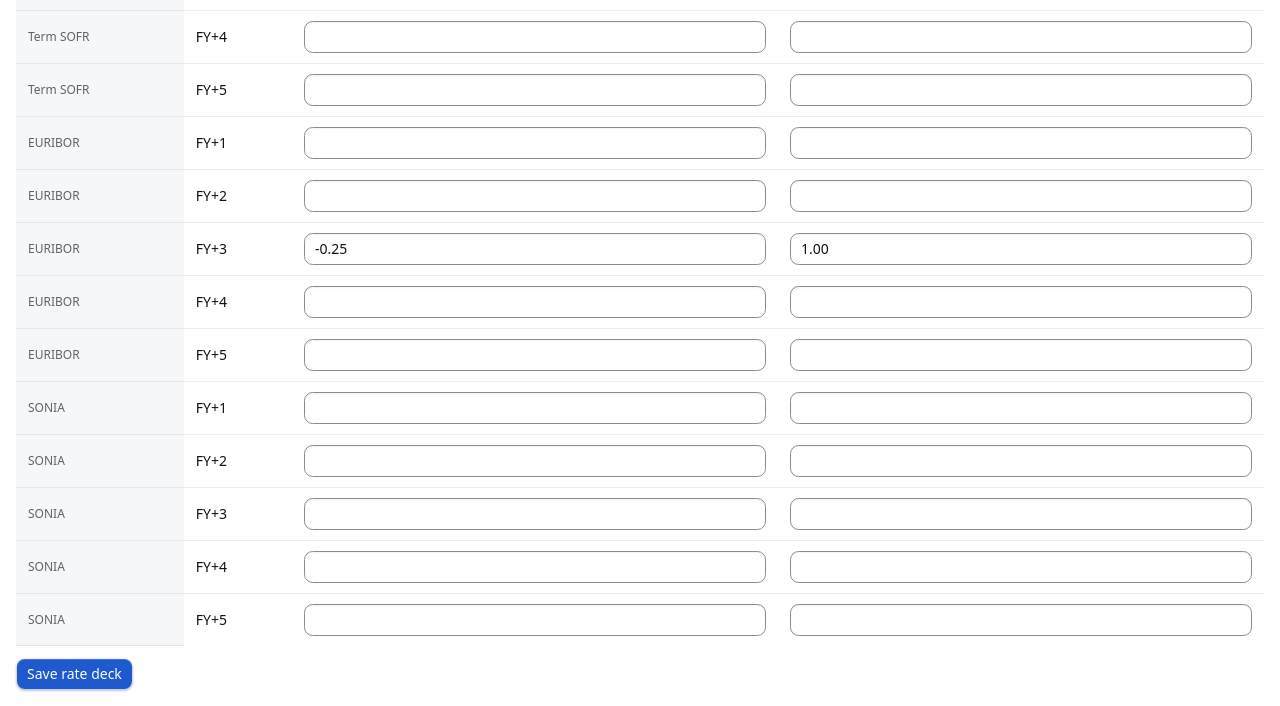
it: the rate deck card › shows the server refusal for a non-admin
The width and height of the screenshot is (1280, 706).
(page scrolled)
Click the button "Save rate deck". click: (74, 674)
box: top-left (16, 658), bottom-right (133, 690)
(page scrolled)
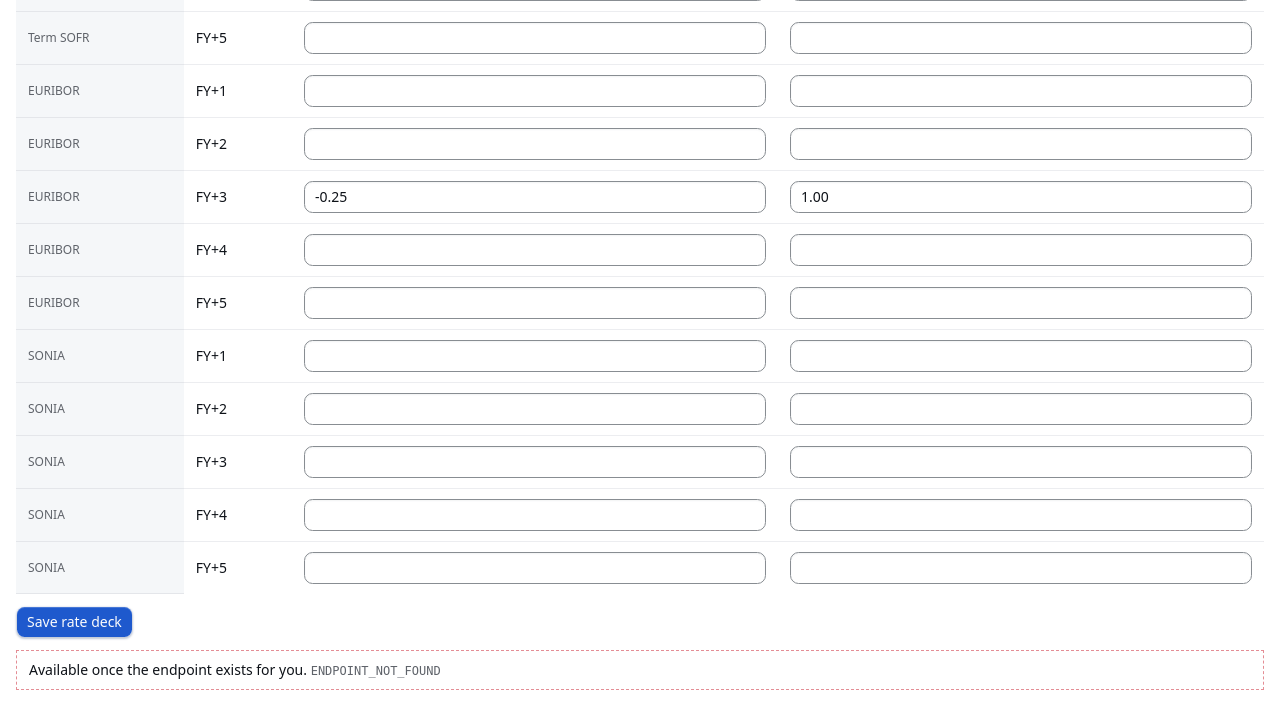
expect the message shows "the endpoint exists for you": met, box top-left (29, 660), bottom-right (307, 679)
